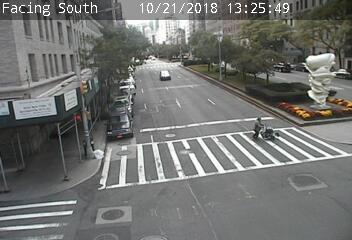car: (160, 70, 170, 81)
